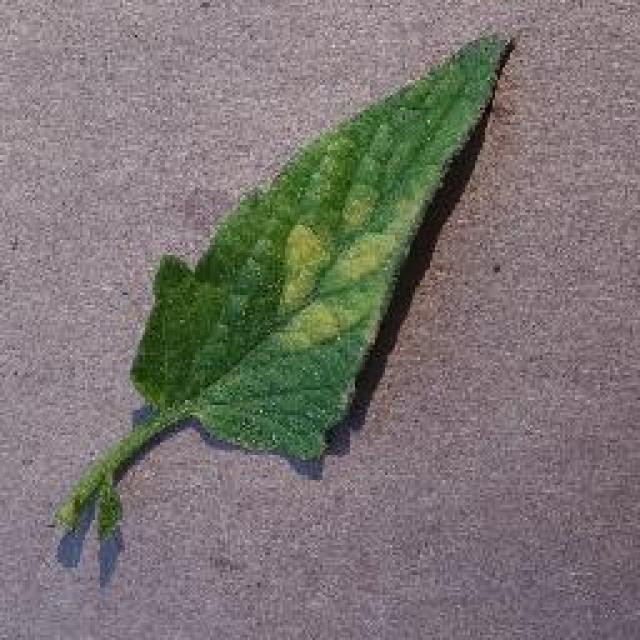Tomato___Leaf_Mold: (58, 38, 505, 558)
